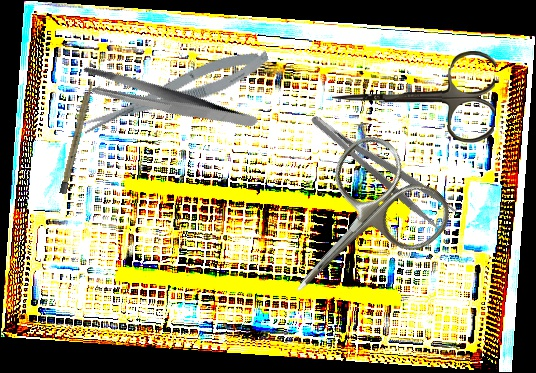Dressing Forceps: (75, 29, 260, 172), (306, 99, 460, 236)
Iris Scissors: (251, 125, 461, 334), (331, 48, 496, 145)
Micro Scissor: (76, 42, 274, 141)
Scalpel Handle: (59, 78, 95, 195)
